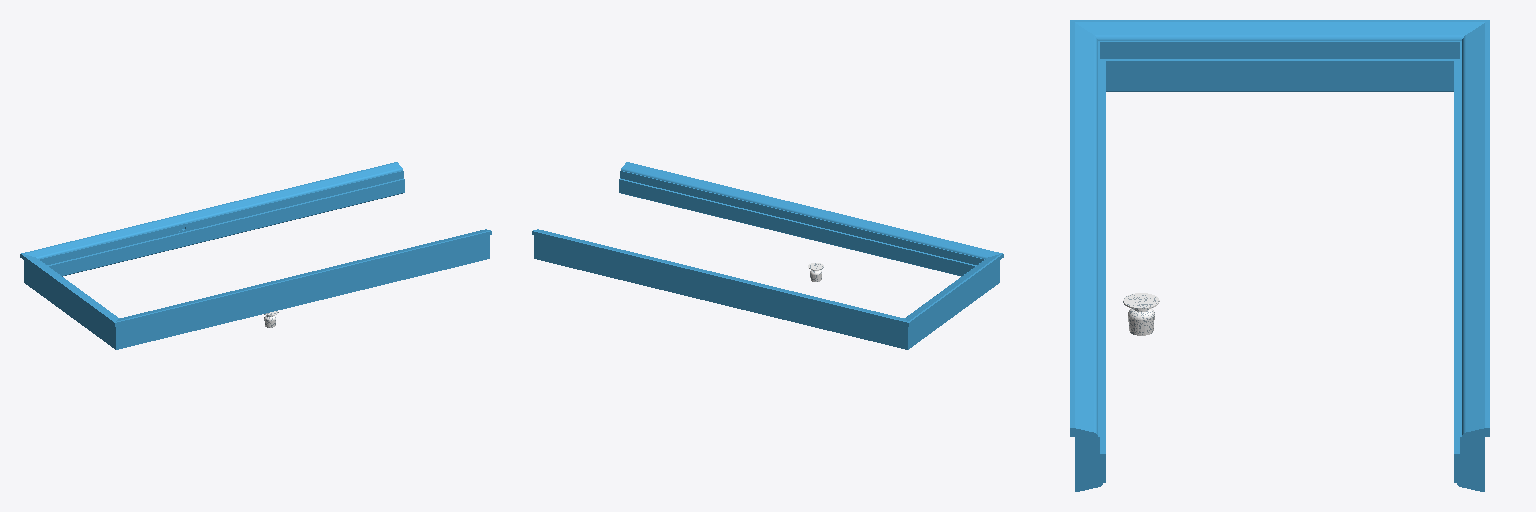
URDF robot description (right-pull-door):
<?xml version="1.0" ?>
<robot name="right-pull-door">
	<link name="base"/>
	<link name="link_0">
		<visual name="out-frame">
			<origin xyz="0 0 0"/>
			<geometry>
				<mesh filename="texture_dae/frame.dae" scale="0.991626804394781 0.991626804394781 0.991626804394781"/>
			</geometry>
		</visual>
		<collision>
			<origin xyz="0 0 0"/>
			<geometry>
				<mesh filename="texture_dae/frame.dae" scale="0.991626804394781 0.991626804394781 0.991626804394781"/>
			</geometry>
		</collision>
	</link>
	<joint name="joint_0" type="fixed">
		<origin rpy="1.570796326794897 0 -1.570796326794897" xyz="0 0 0"/>
		<child link="link_0"/>
		<parent link="base"/>
	</joint>
	<link name="link_1">
		<visual name="surf-board">
			<origin xyz="0.33185633688023636 -0.7711576597294252 0"/>
			<geometry>
				<mesh filename="texture_dae/board.dae" scale="0.991626804394781 0.991626804394781 0.991626804394781"/>
			</geometry>
		</visual>
		<collision>
			<origin xyz="0.33185633688023636 -0.7711576597294252 0"/>
			<geometry>
				<mesh filename="texture_dae/board.dae" scale="0.991626804394781 0.991626804394781 0.991626804394781"/>
			</geometry>
		</collision>
	</link>
	<joint name="joint_1" type="revolute">
		<origin xyz="-0.33185633688023636 0.7711576597294252 0"/>
		<axis xyz="0 -1 0"/>
		<child link="link_1"/>
		<parent link="link_0"/>
		<limit lower="0" upper="1.5079644737231006"/>
	</joint>
	<link name="link_2">
		<visual name="handle">
			<origin xyz="0 0 0"/>
			<geometry>
				<mesh filename="texture_dae/9962022.dae" scale="1.1036314089811892 1.1036314089811892 1.1036314089811892"/>
			</geometry>
		</visual>
		<collision>
			<origin xyz="0 0 0"/>
			<geometry>
				<mesh filename="texture_dae/9962022.dae" scale="1.1036314089811892 1.1036314089811892 1.1036314089811892"/>
			</geometry>
		</collision>
	</link>
	<joint name="joint_2" type="revolute">
		<origin xyz="0.5859200412144623 -0.8976016246346248 0.02568122153489867"/>
		<child link="link_2"/>
		<parent link="link_1"/>
		<axis xyz="0 0 1"/>
		<limit lower="0" upper="1.5079644737231006"/>
	</joint>
</robot>

--- Render facts (derived) ---
The picture shows the robot from 3 angles, left to right: view 1: azimuth 30°, elevation 25°; view 2: azimuth 150°, elevation 25°; view 3: azimuth 270°, elevation 25°; orthographic projection.
Model right-pull-door with 4 links and 3 joints (2 revolute, 1 fixed), rooted at base, posed every joint at zero.
Links seen in each view (by area): view 1: link_0; view 2: link_0; view 3: link_0, link_2.
Link boxes in pixels (box(x1,y1,x2,y2)): link_0: box(20, 162, 491, 349); link_0: box(532, 162, 1003, 349); link_0: box(1070, 20, 1489, 491); link_2: box(1123, 293, 1159, 335).
Size in the robot's own frame: 1.76 by 0.7671 by 0.2512 metres.
Meshes: 3 distinct files referenced, 2 mesh visuals loaded (2 Collada DAE); not drawn: 1 (reference not matched to a file when rendering).
